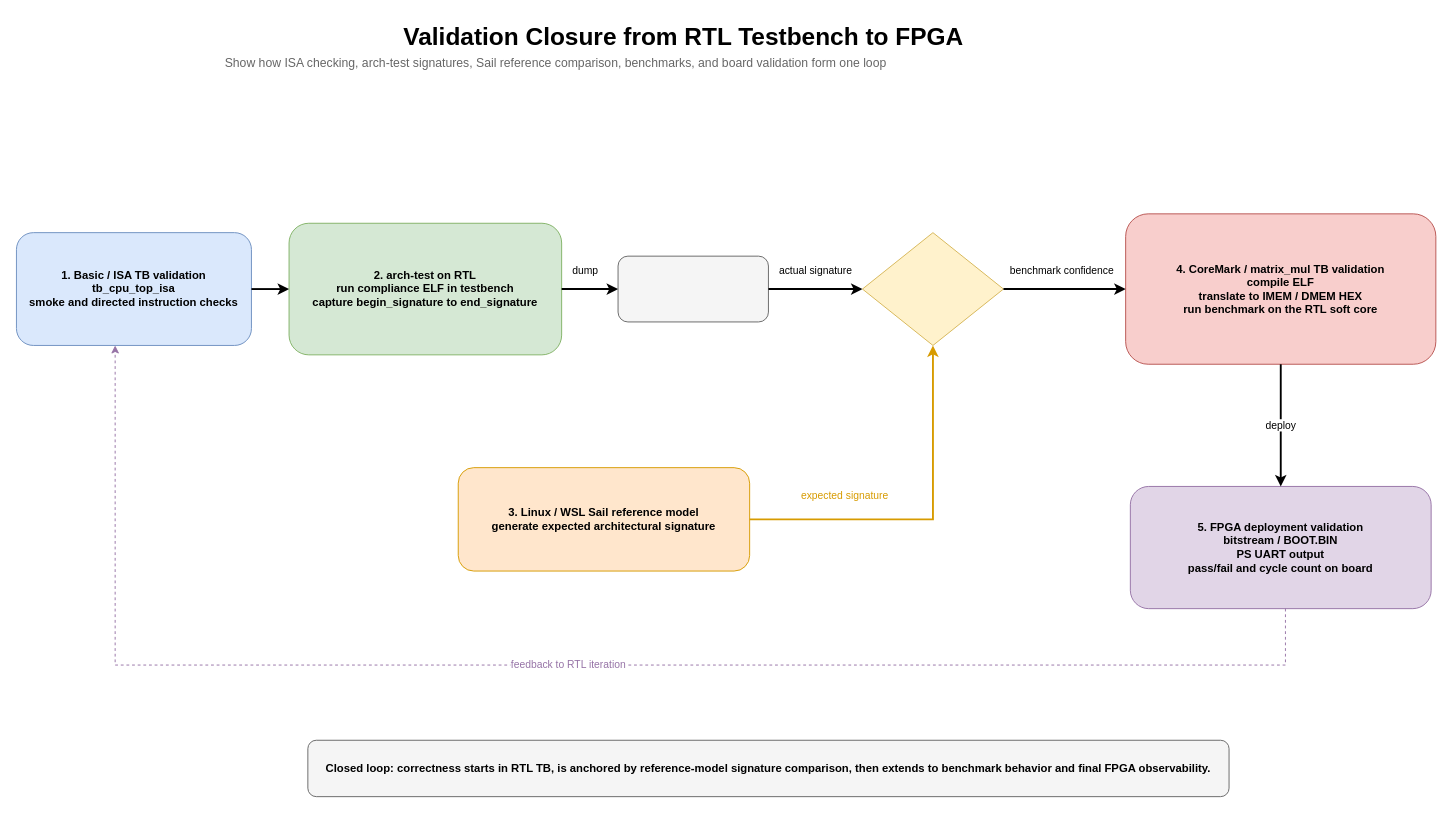
Some shapes in this 1452 by 813 pixel diagram are drawn without their labels. Each missing label, with the box of its shape:
RTL signature: (617, 255, 768, 322)
signature compare RTL actual vs Sail expected: (862, 232, 1003, 345)
